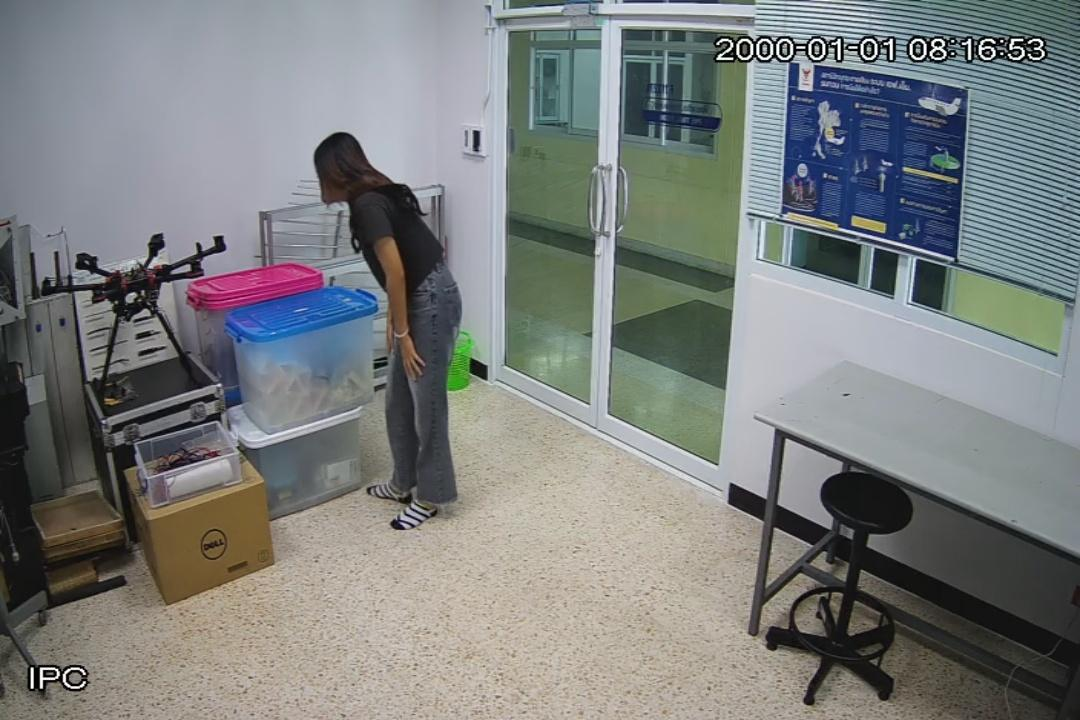normal: (308, 122, 462, 544)
